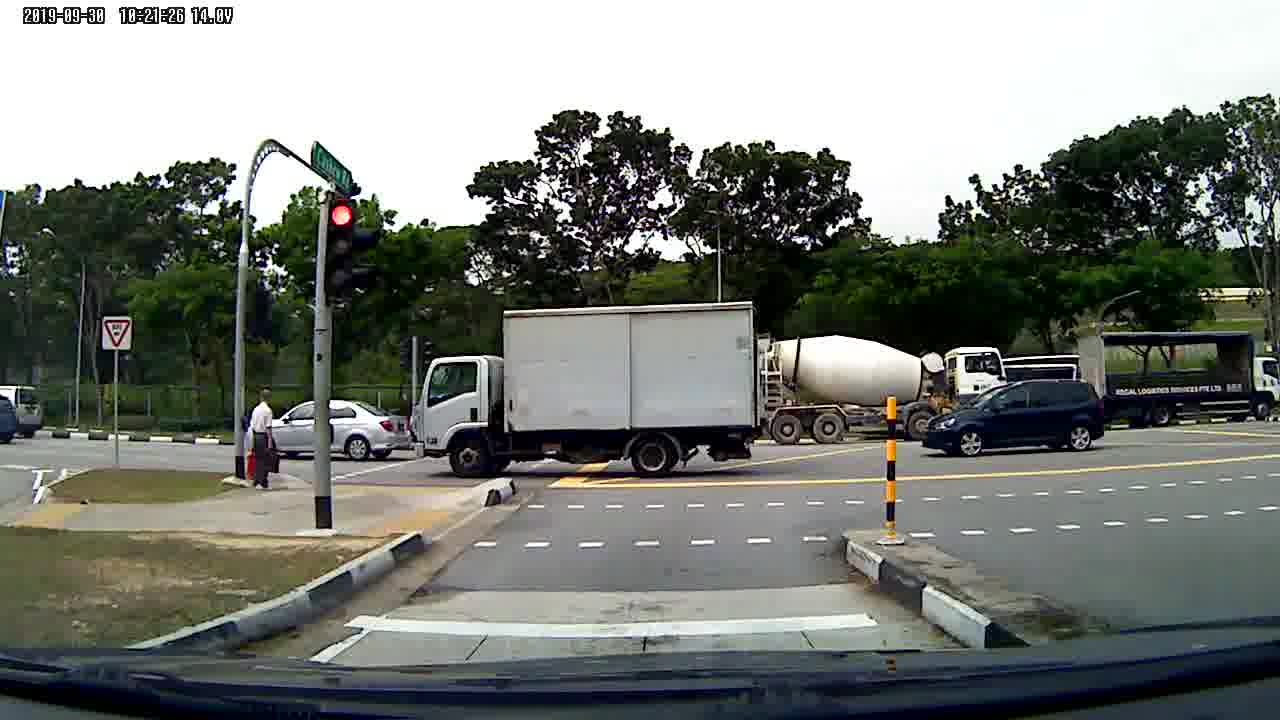car: (924, 381, 1109, 456), (277, 395, 407, 466)
